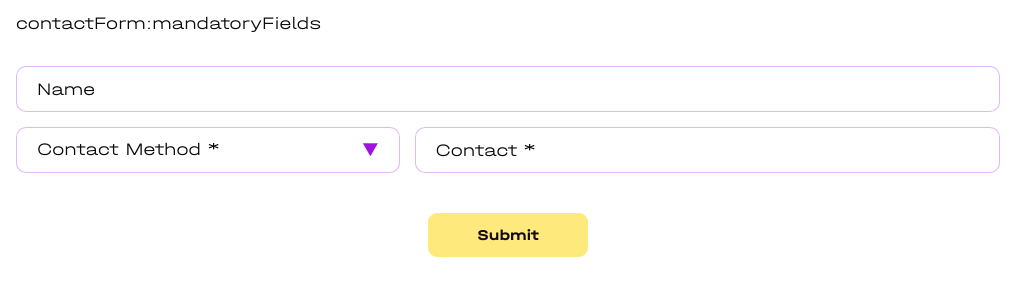
Test: ContactForm (integration) › shows the real server-mapped message when the API returns a 500
Select "Email" in the dropdown named "Contact Method" at point(208, 150), box [16, 127, 400, 173]
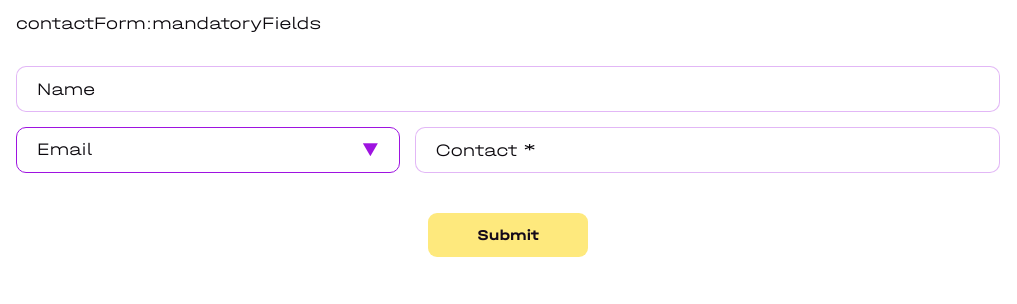
Type "john@example.com" into the field labelled "Contact" at point(707, 150), box [414, 127, 1000, 173]
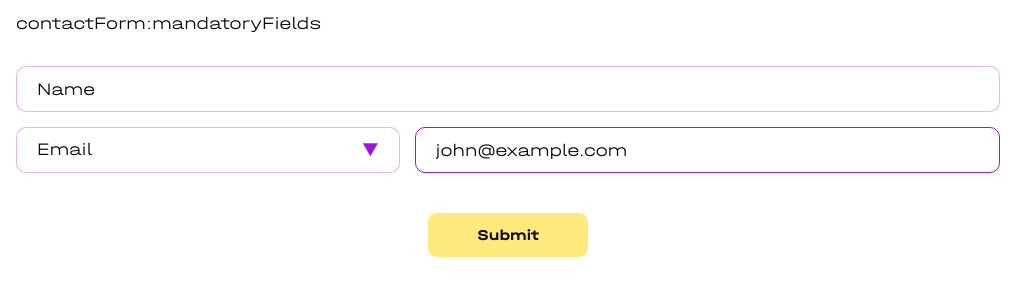
Click the button "Submit" at point(508, 235), box [428, 213, 588, 257]
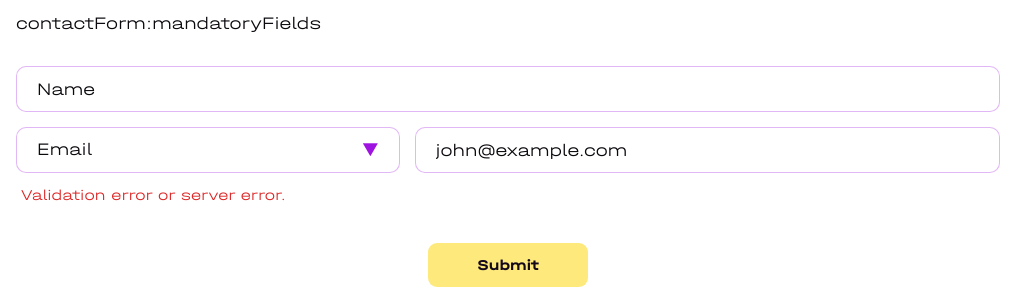
Now the text "Validation error or server error." is shown, box [21, 186, 286, 204]
